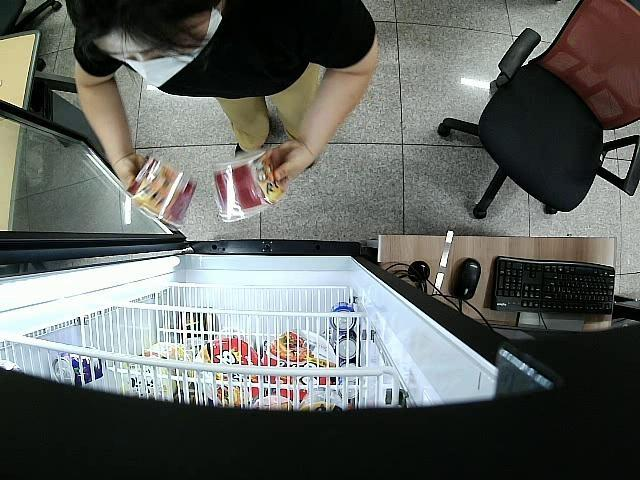05_nuguri_L: (124, 154, 196, 228), (211, 152, 286, 221)
